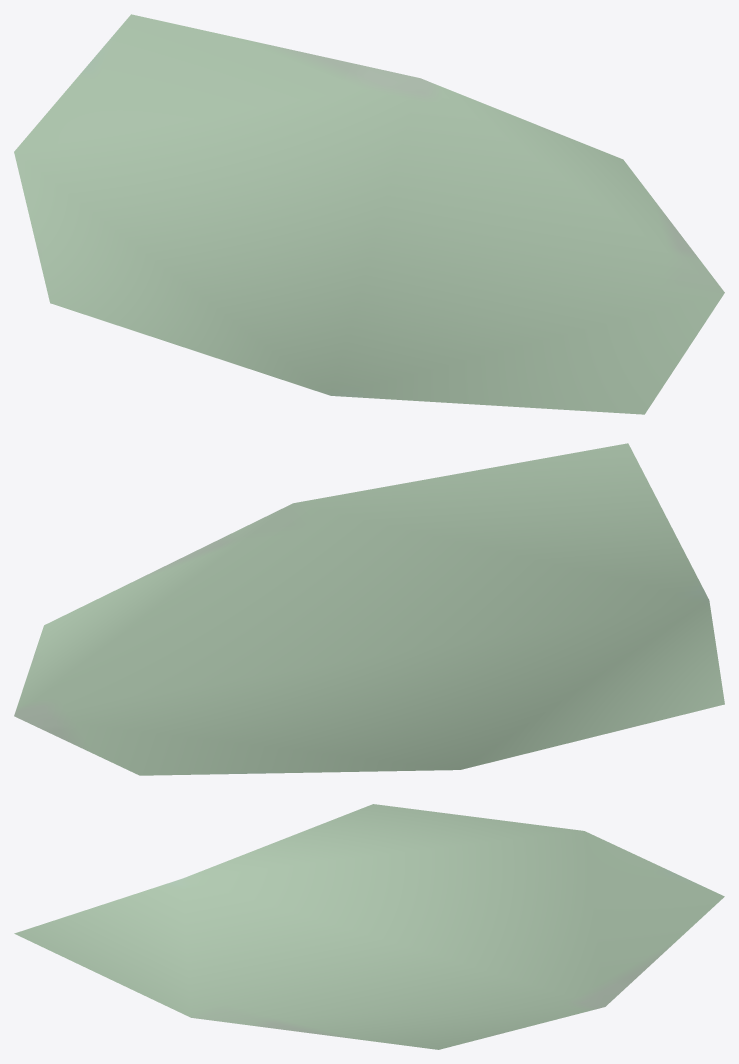
Rendered from TROLLHOLE02_HOLECAP174.fbx.
The picture shows the model from 3 angles, top to bottom: view 1: azimuth 30°, elevation 25°; view 2: azimuth 150°, elevation 25°; view 3: azimuth 270°, elevation 25°; orthographic projection. The views are drawn at different scales.
Parts seen in each view (by area): view 1: TROLLHOLE02_HOLECAP174; view 2: TROLLHOLE02_HOLECAP174; view 3: TROLLHOLE02_HOLECAP174.
Part boxes in pixels (x1,y1,x2,y2): TROLLHOLE02_HOLECAP174: (14, 14, 724, 414); TROLLHOLE02_HOLECAP174: (14, 443, 724, 775); TROLLHOLE02_HOLECAP174: (14, 804, 724, 1049).
Bounding box in the file's own units: 29966 × 3272 × 41521.
Materials: 1 (1 with a texture image).
